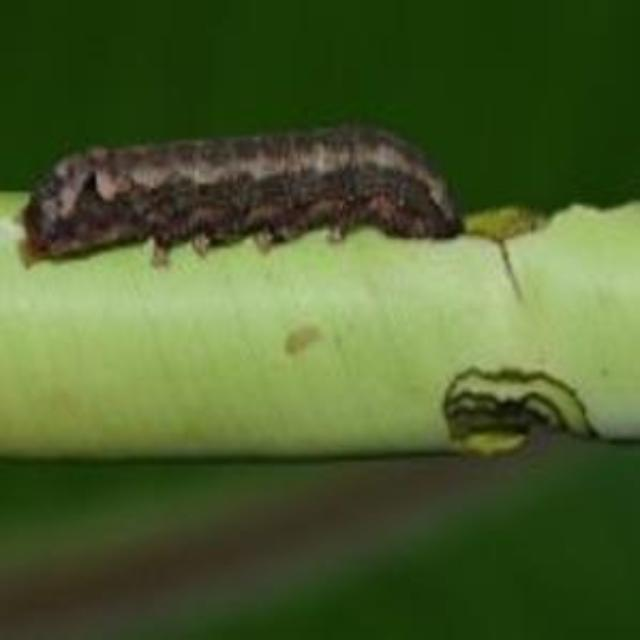Tobacco cutworm: (9, 81, 504, 385)
